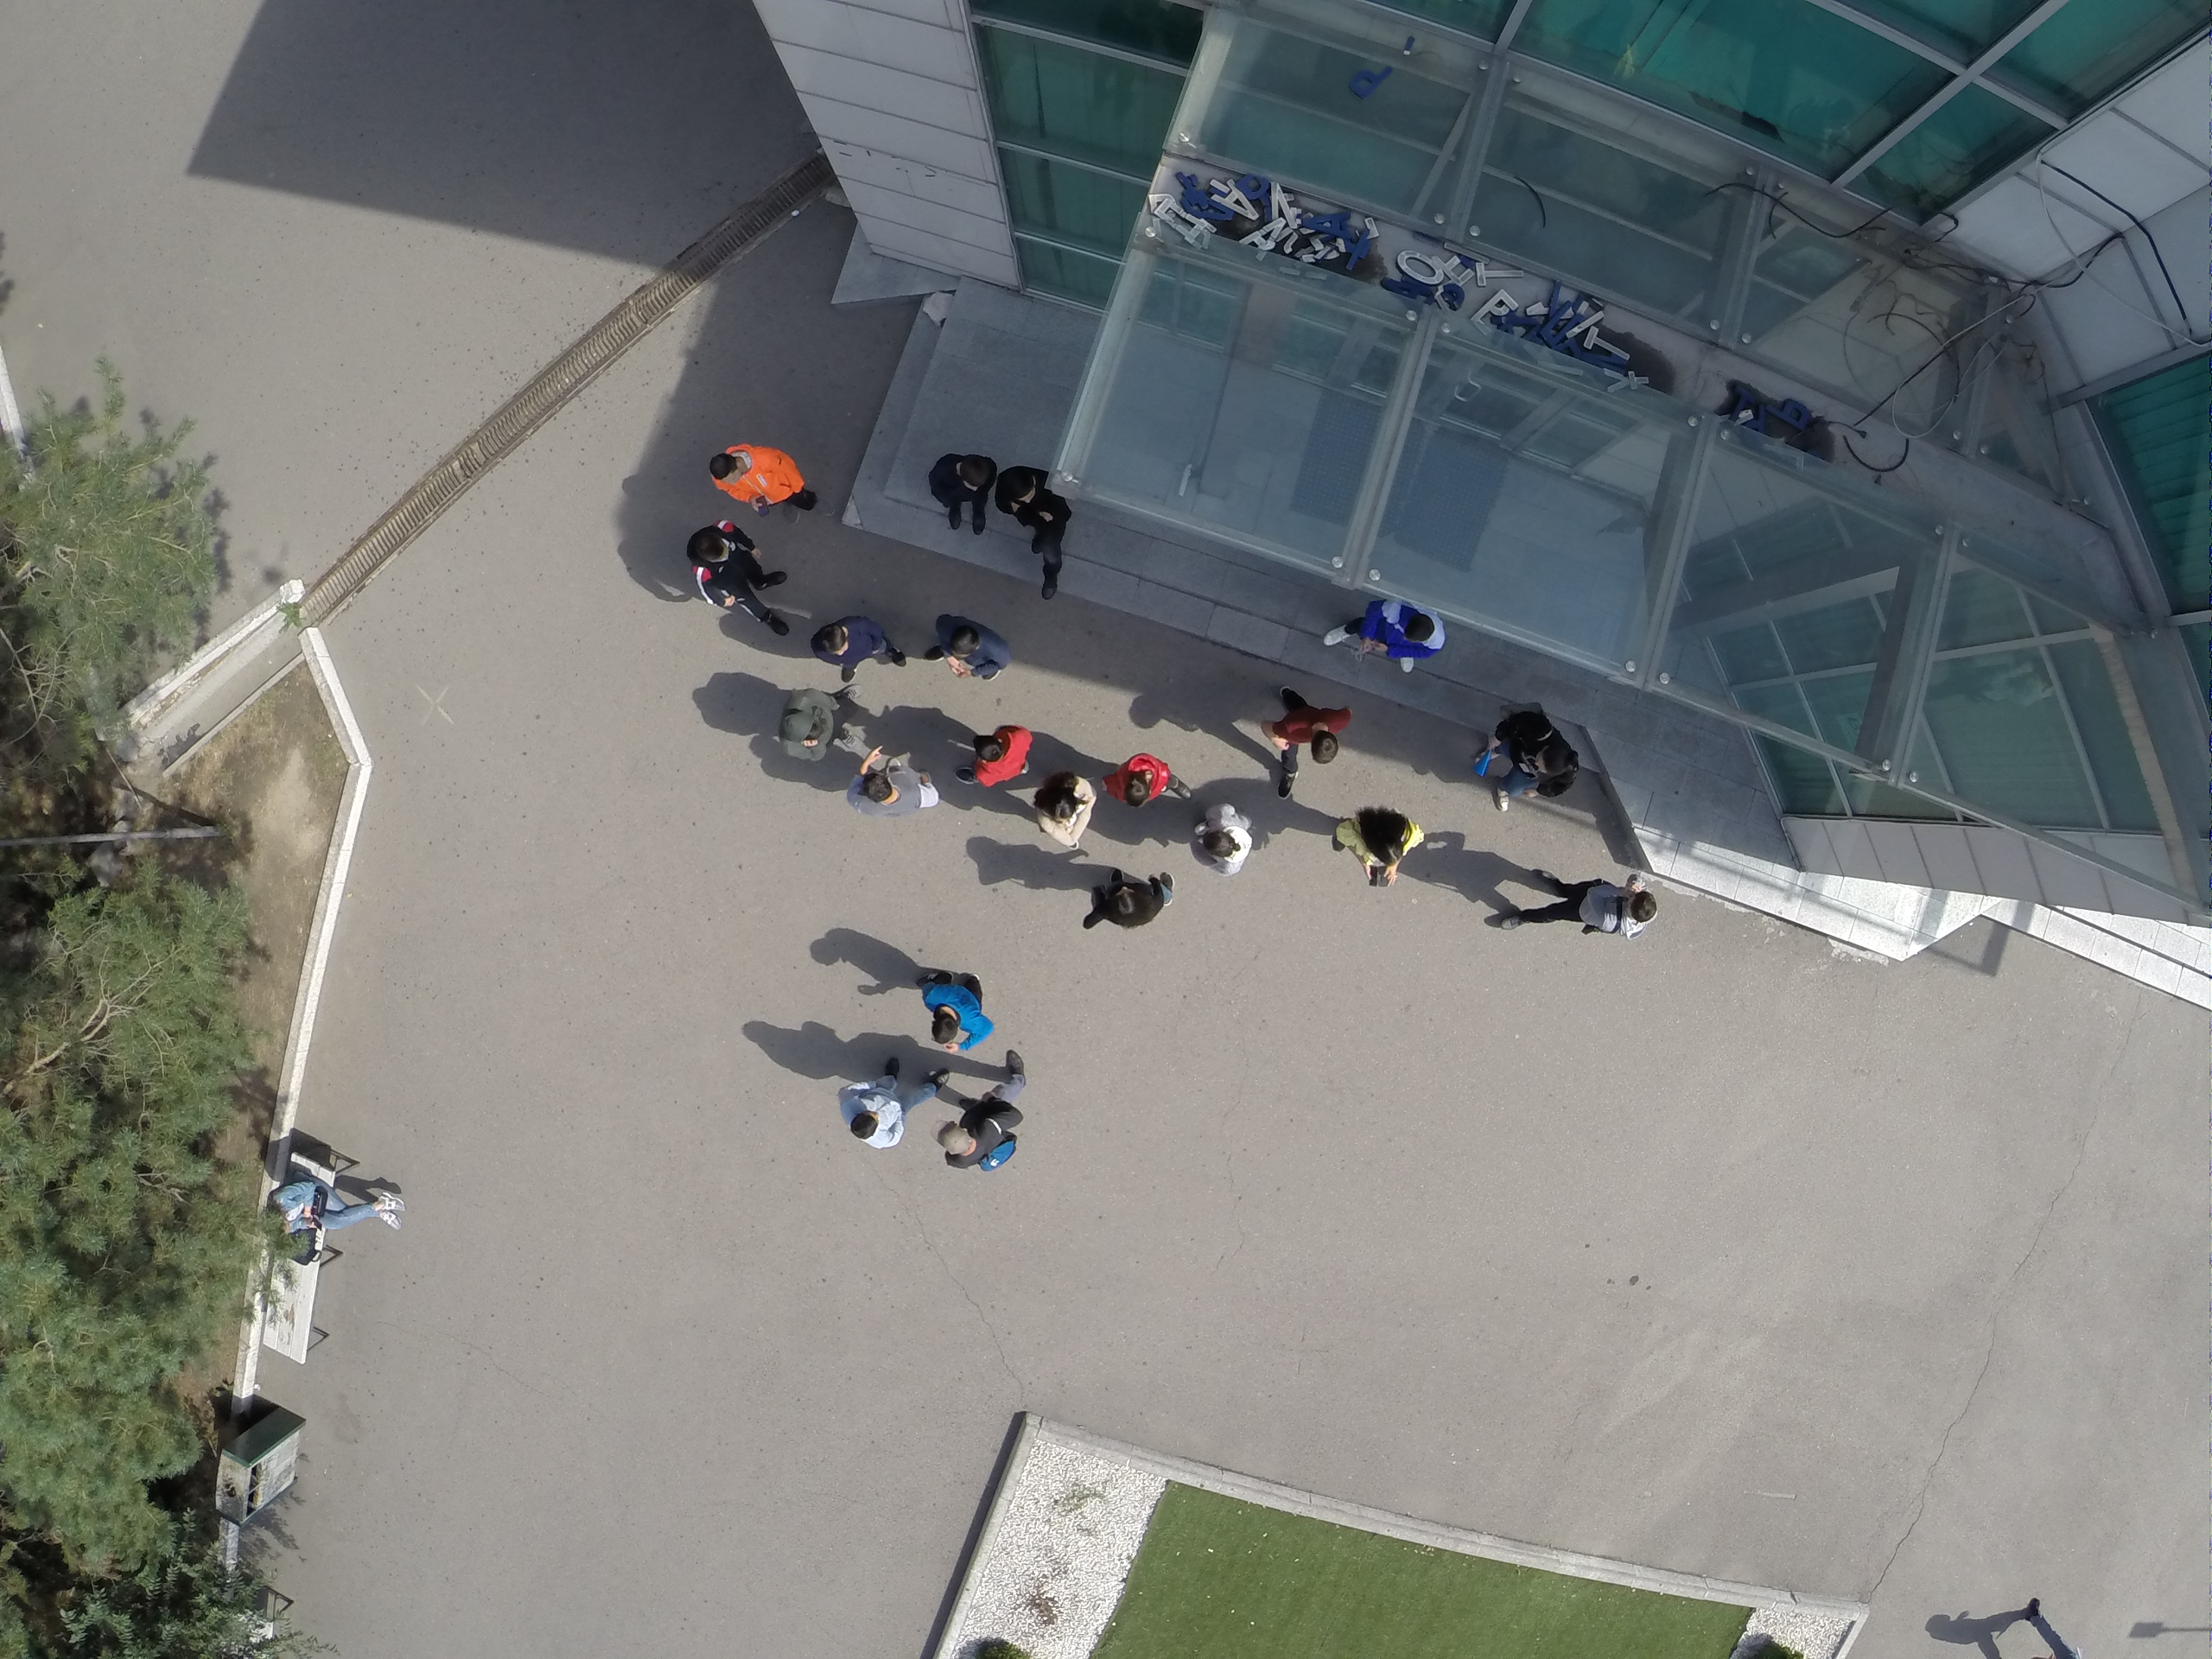person: (683, 518, 790, 638), (1499, 868, 1657, 942), (1472, 704, 1579, 812), (836, 1048, 947, 1148), (998, 458, 1074, 605), (704, 439, 834, 524), (944, 1046, 1027, 1173), (1263, 688, 1352, 800), (1326, 597, 1446, 677), (259, 1176, 406, 1235), (1332, 806, 1426, 889), (912, 969, 996, 1056), (777, 677, 864, 760), (808, 614, 907, 687), (849, 747, 938, 820), (930, 612, 1011, 690), (1080, 870, 1173, 934), (927, 452, 998, 535), (1033, 772, 1096, 851), (1194, 800, 1255, 880), (1103, 753, 1191, 808), (957, 721, 1030, 789)
